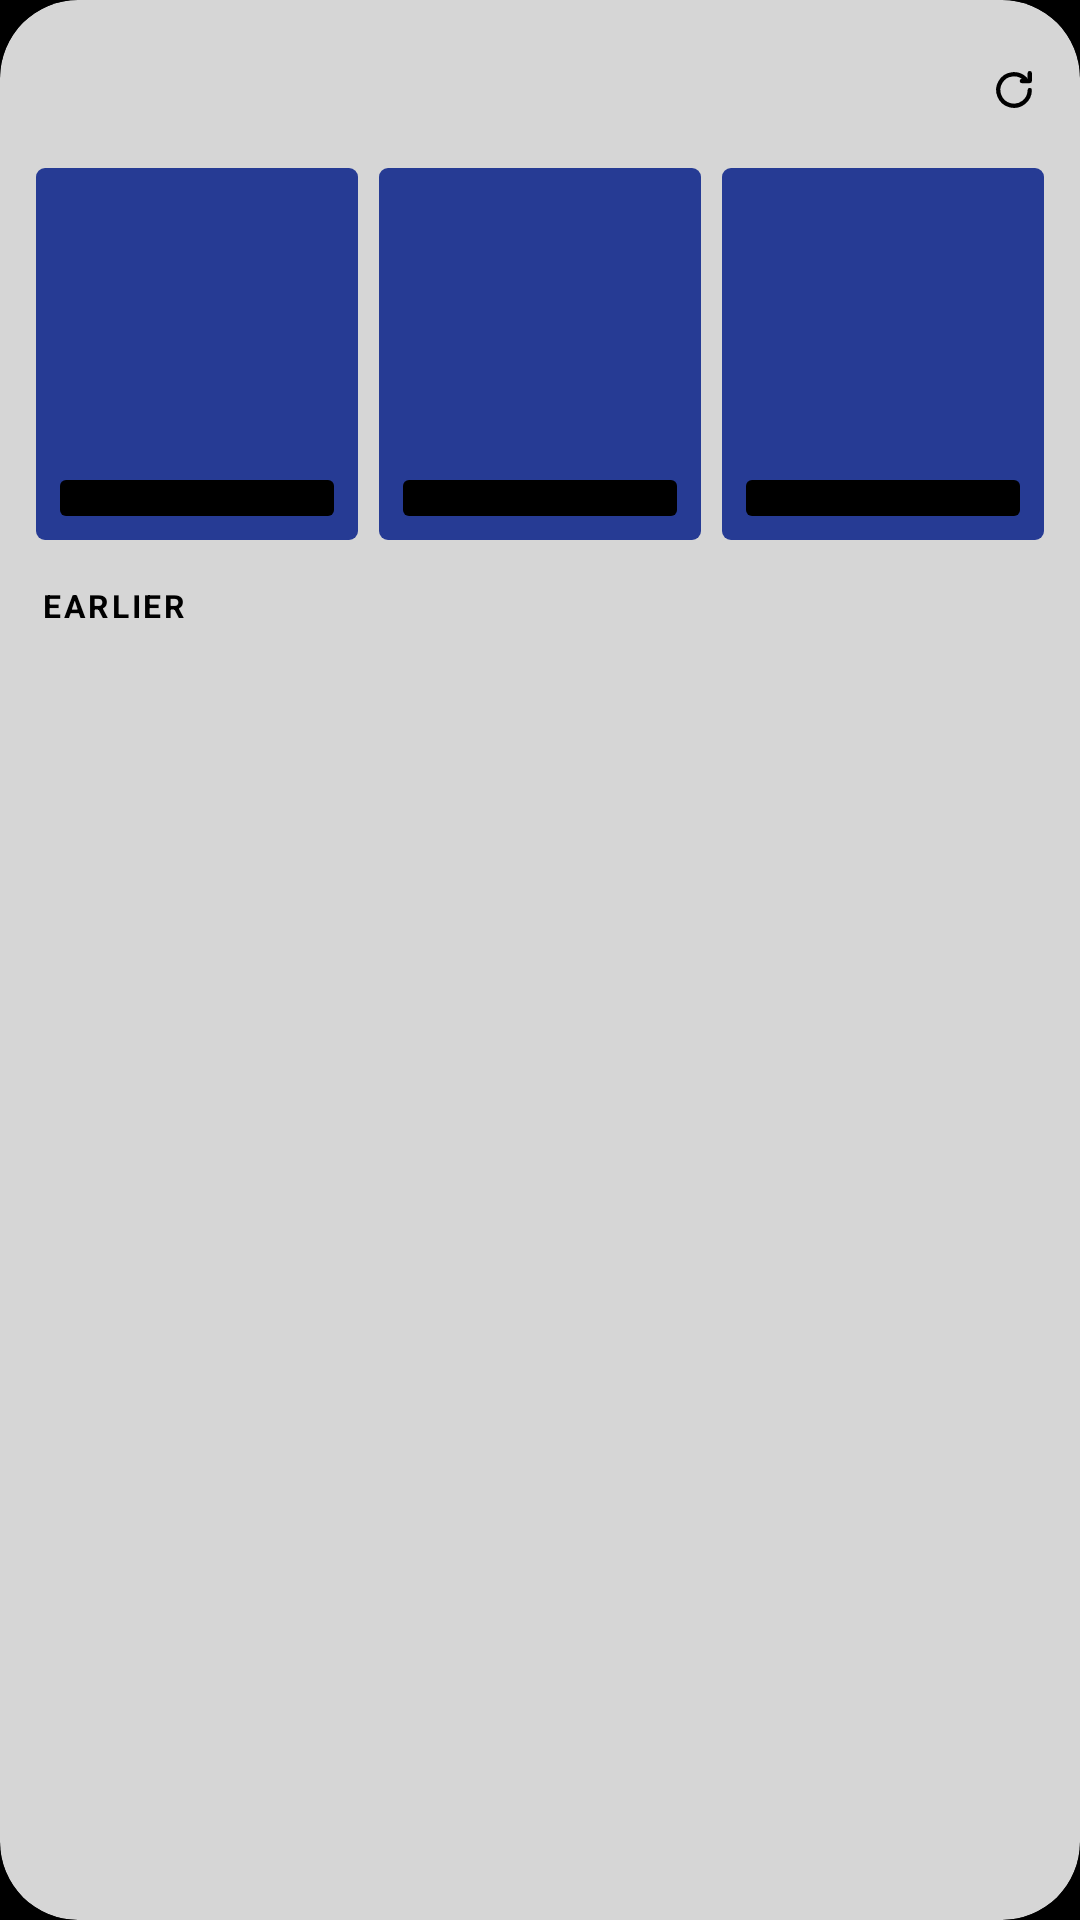

Icons on this 1080x1920 Android screen, each with the point to tap as (x=x, y=y):
Check for news now: (x=1014, y=89)
